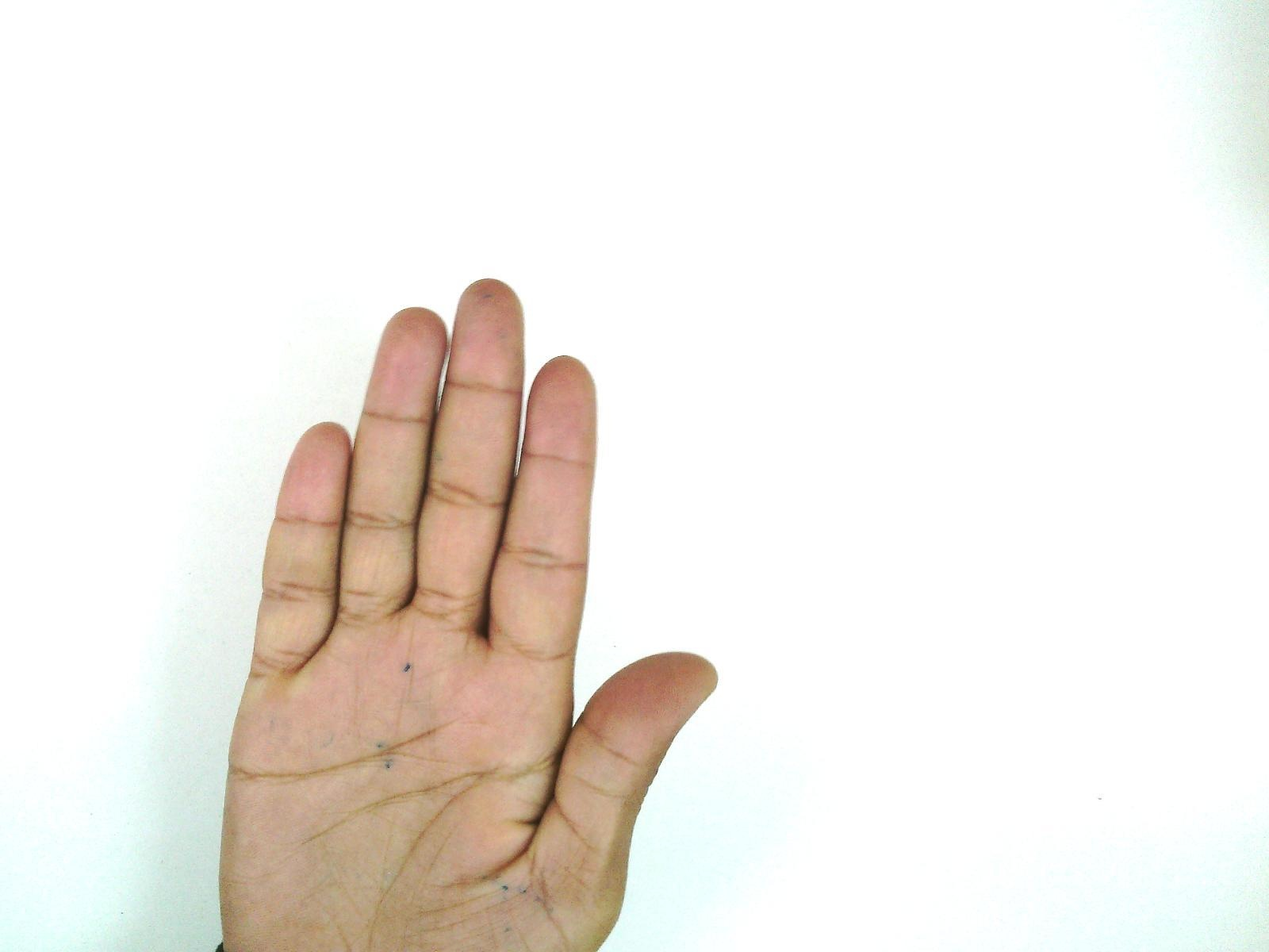open_palm: (214, 278, 721, 951)
